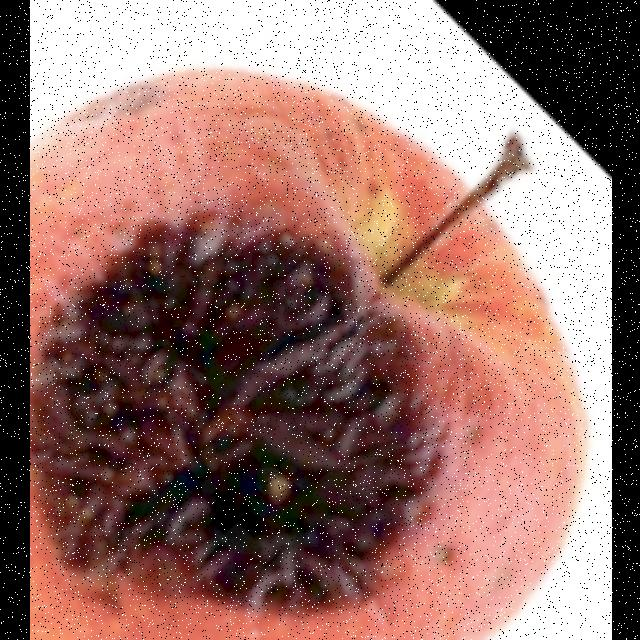Apel Tidak Segar: (28, 66, 574, 640)
